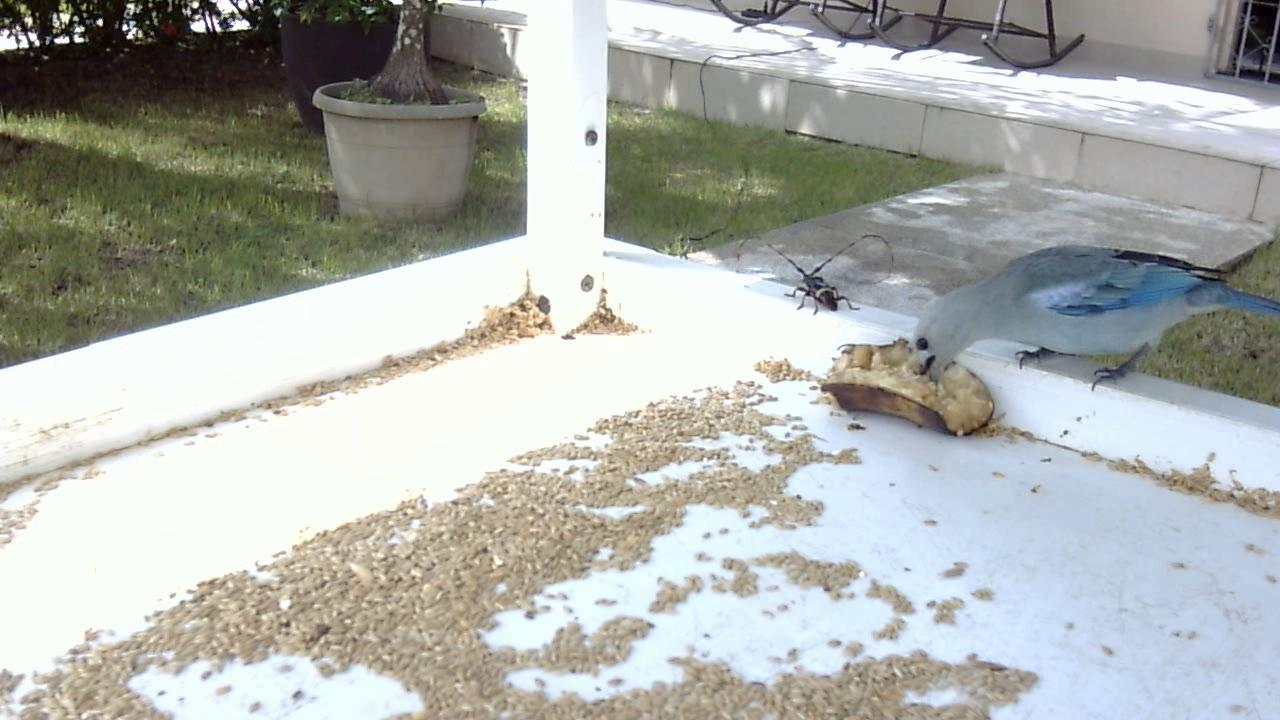sanhaco_da_amazonia: (909, 226, 1280, 408)
